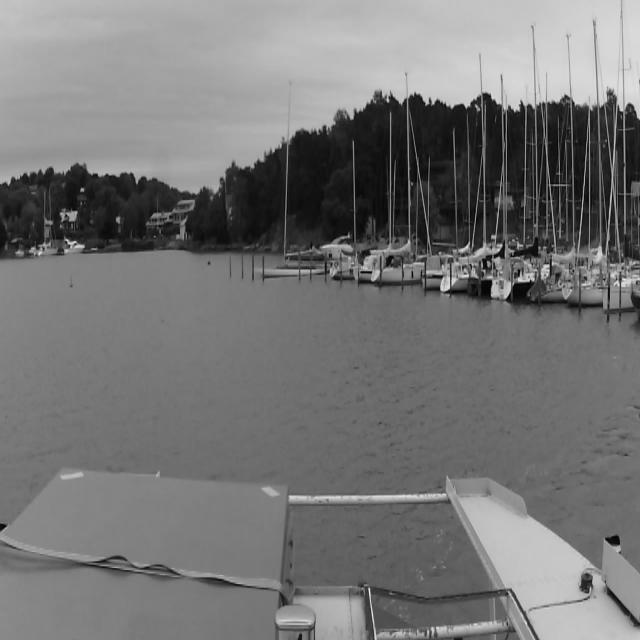buoy: (69, 274, 75, 293)
ship: (331, 71, 431, 286), (529, 19, 595, 306), (444, 60, 512, 303), (270, 77, 325, 283), (603, 2, 635, 314)
